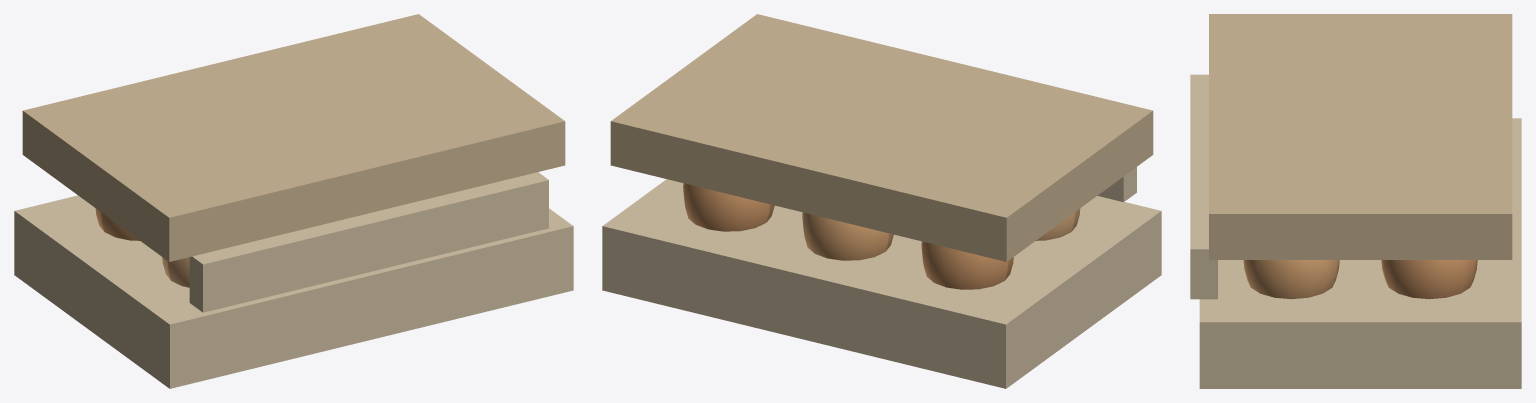
The model's file is egg-carton.glb.
The picture shows the model from 3 angles, left to right: view 1: azimuth 30°, elevation 25°; view 2: azimuth 150°, elevation 25°; view 3: azimuth 270°, elevation 25°; orthographic projection. The views are drawn at different scales.
Parts seen in each view (by area): view 1: Pulp_Lid_Top, Pulp_Base, Pulp_Front_Latch, Egg_04, Egg_01; view 2: Pulp_Lid_Top, Pulp_Base, Egg_01, Egg_03, Egg_02, Pulp_Front_Latch, Egg_04; view 3: Pulp_Lid_Top, Pulp_Base, Pulp_Front_Latch, Egg_03, Egg_06.
Boxes of the visible parts, bbox=[...] form: Pulp_Lid_Top: bbox=[22, 14, 565, 261]; Pulp_Base: bbox=[14, 195, 573, 388]; Pulp_Front_Latch: bbox=[189, 172, 548, 312]; Egg_04: bbox=[162, 257, 189, 287]; Egg_01: bbox=[95, 208, 139, 240]; Pulp_Lid_Top: bbox=[610, 14, 1153, 261]; Pulp_Base: bbox=[602, 179, 1161, 388]; Egg_01: bbox=[921, 241, 1013, 289]; Egg_03: bbox=[683, 183, 774, 231]; Egg_02: bbox=[802, 212, 893, 260]; Pulp_Front_Latch: bbox=[1097, 167, 1136, 202]; Egg_04: bbox=[1036, 208, 1080, 240]; Pulp_Lid_Top: bbox=[1209, 14, 1512, 259]; Pulp_Base: bbox=[1199, 118, 1521, 388]; Pulp_Front_Latch: bbox=[1190, 74, 1217, 299]; Egg_03: bbox=[1381, 260, 1477, 299]; Egg_06: bbox=[1243, 260, 1339, 299].
Size of the model in its own units: 0.21 by 0.083 by 0.144.
